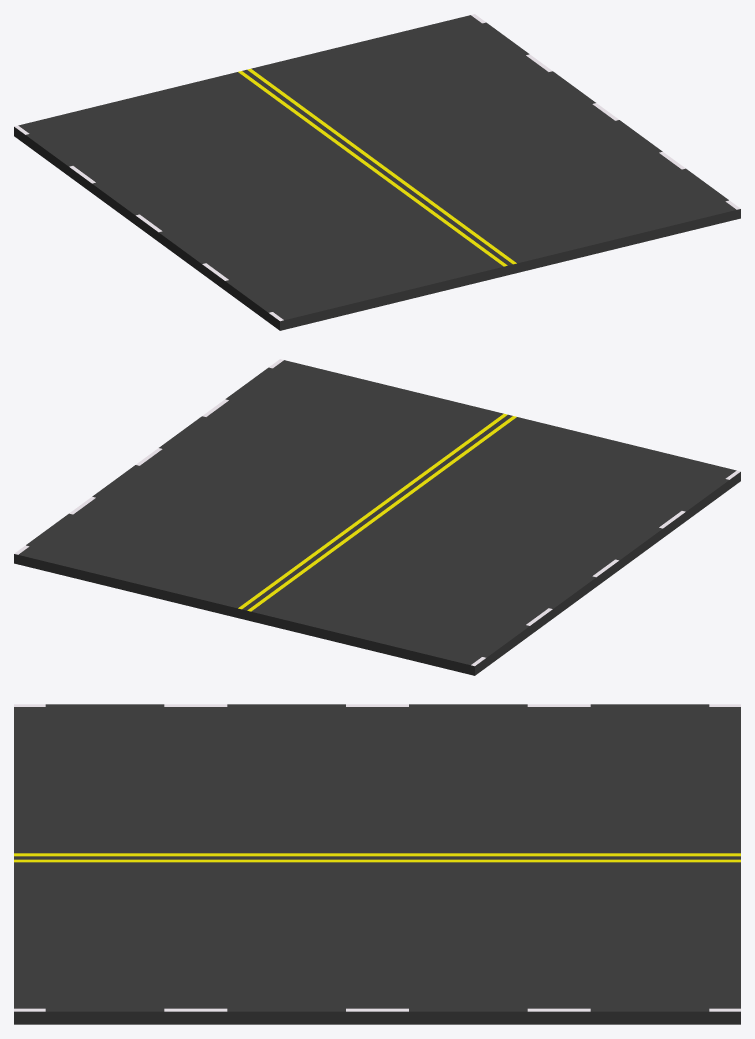
File: major_road_straight_odd_center.glb
3 views of the same model, one above another, from view 1: azimuth 30°, elevation 25°; view 2: azimuth 150°, elevation 25°; view 3: azimuth 270°, elevation 25° (orthographic). The views are drawn at different scales.
Parts seen in each view (by area): view 1: MajorStraightOddCenter; view 2: MajorStraightOddCenter; view 3: MajorStraightOddCenter.
Boxes of the visible parts, left/top/right/bottom form: MajorStraightOddCenter: left=14, top=14, right=740, bottom=330; MajorStraightOddCenter: left=14, top=359, right=740, bottom=675; MajorStraightOddCenter: left=14, top=704, right=740, bottom=1024.
Bounding box in the file's own units: 2 × 0.0401 × 2.
